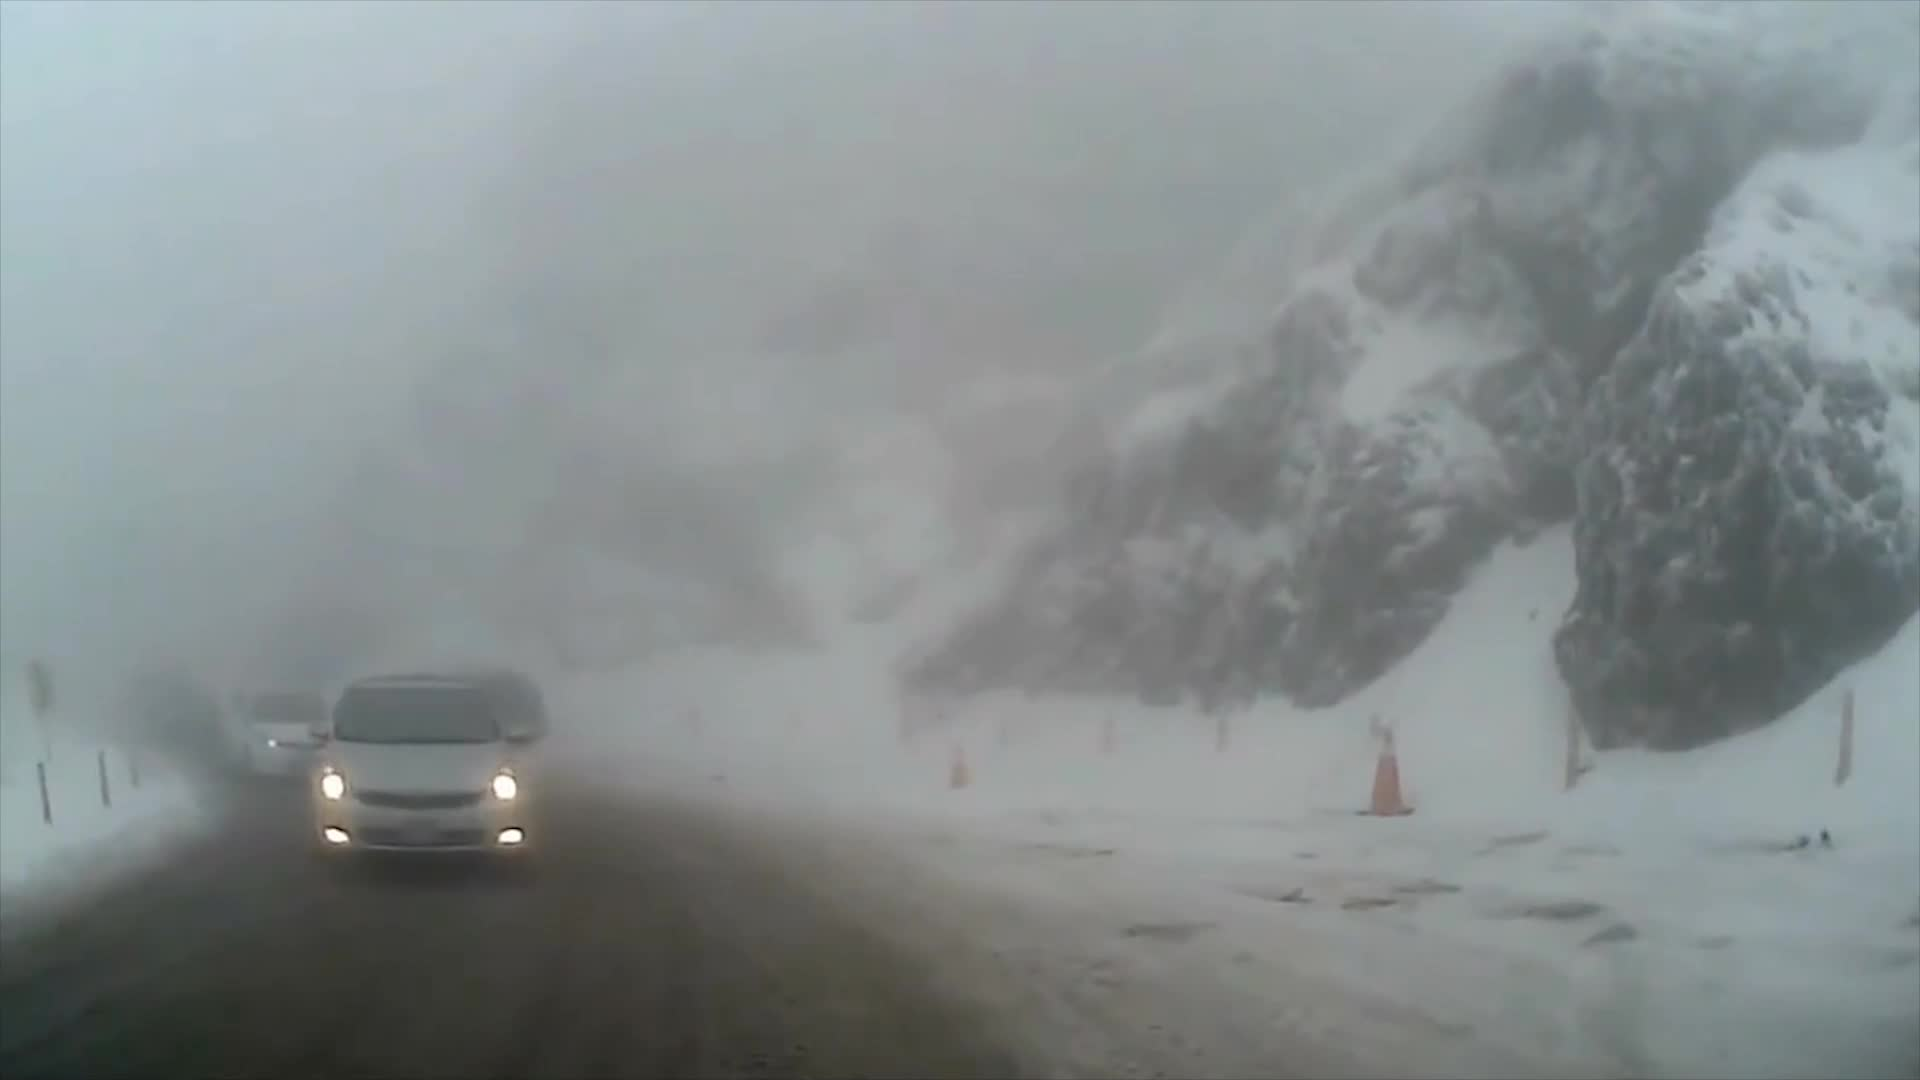vehicle: (305, 673, 534, 880), (214, 684, 349, 783)
